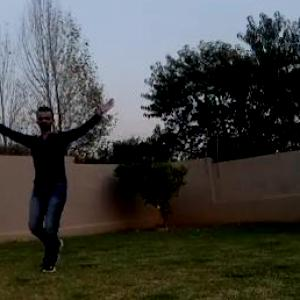takeoff: (1, 99, 116, 274)
